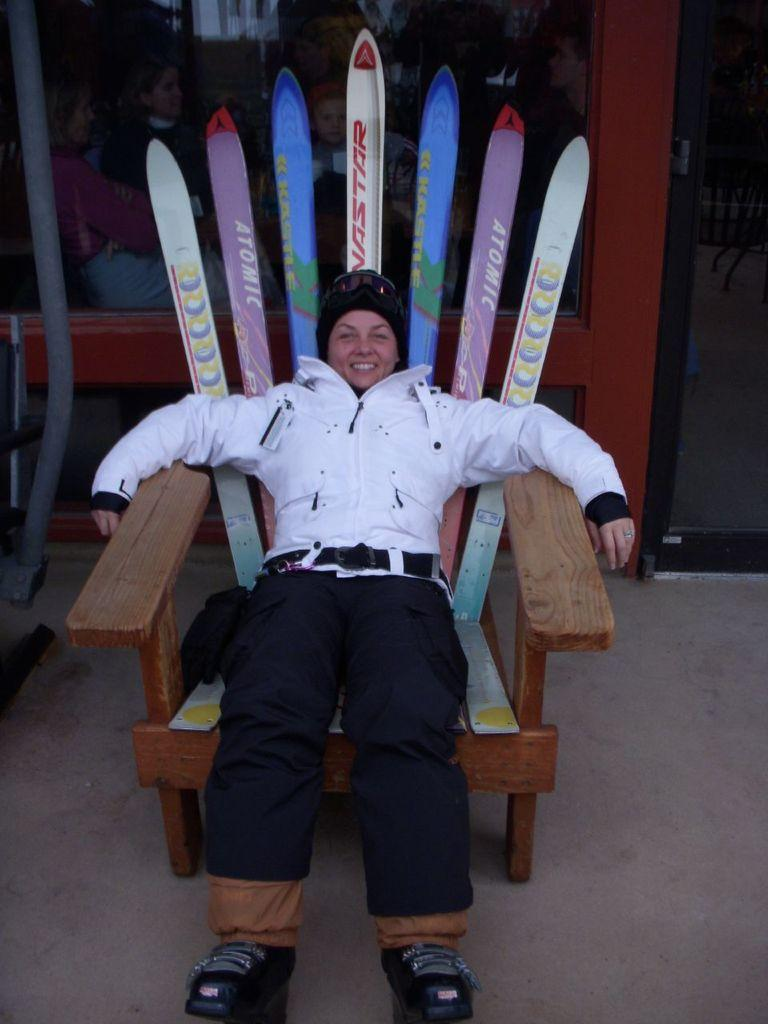Chair: (62, 32, 617, 882)
